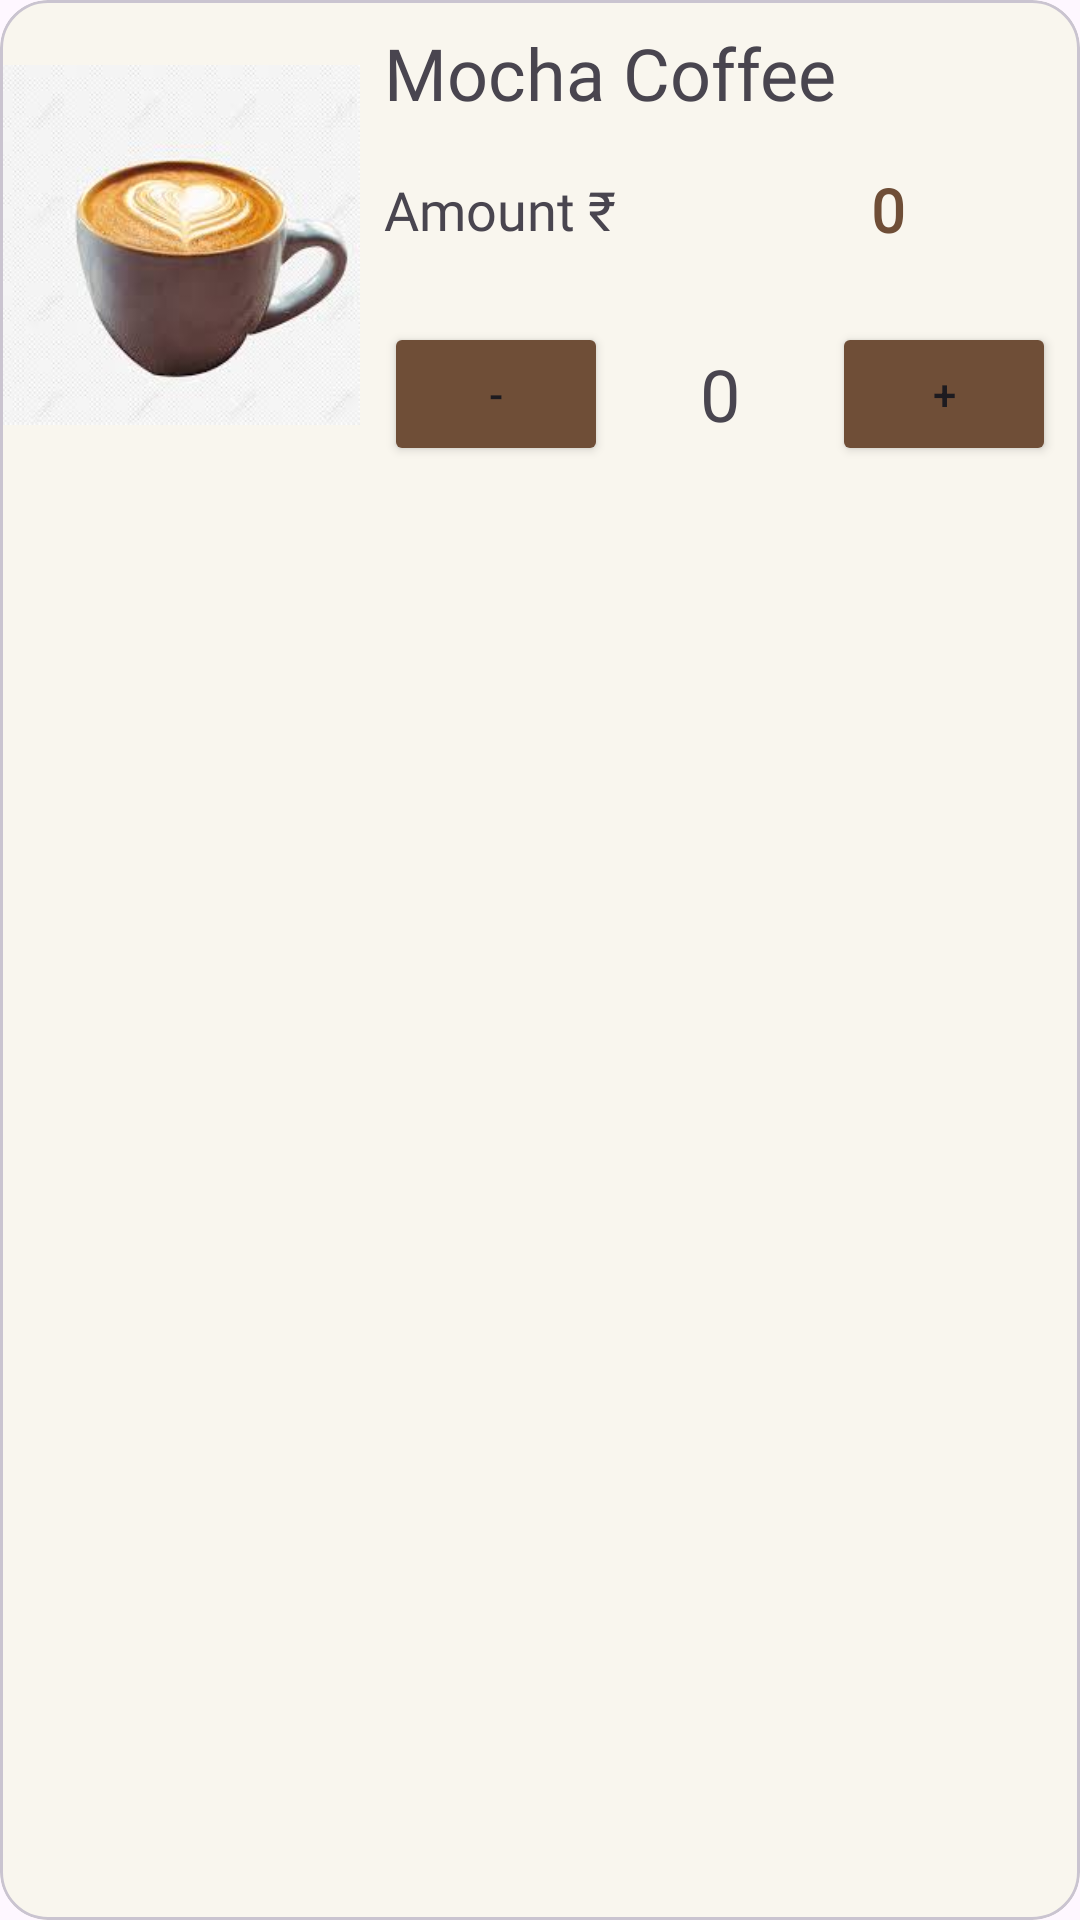

Icon bounding boxes for this 1080×1920 phone screenshot, format {"left": x1, "top": y1, "right": x2, "bottom": y2}:
cofee: {"left": 39, "top": 73, "right": 355, "bottom": 420}
